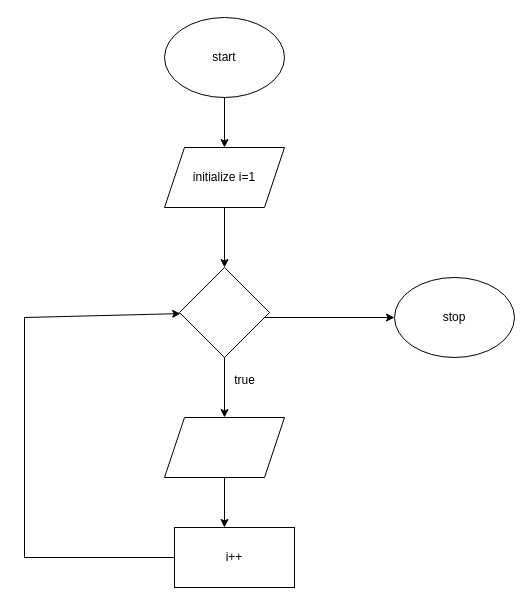
Image size: 532x605. Some labels were removed from this diagram. The centre of each missing label's shape, as x and y in pixels:
"(i<=10)?" goes at pixel 224 312.
"print i" goes at pixel 224 447.
